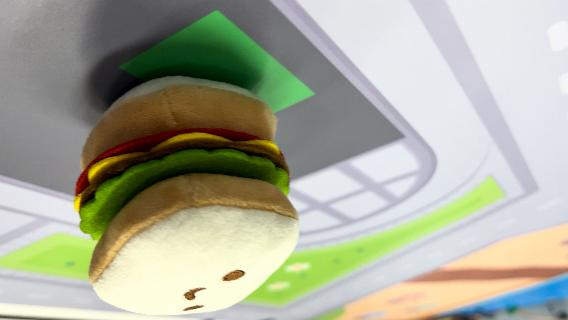sandwich: (72, 73, 302, 314)
